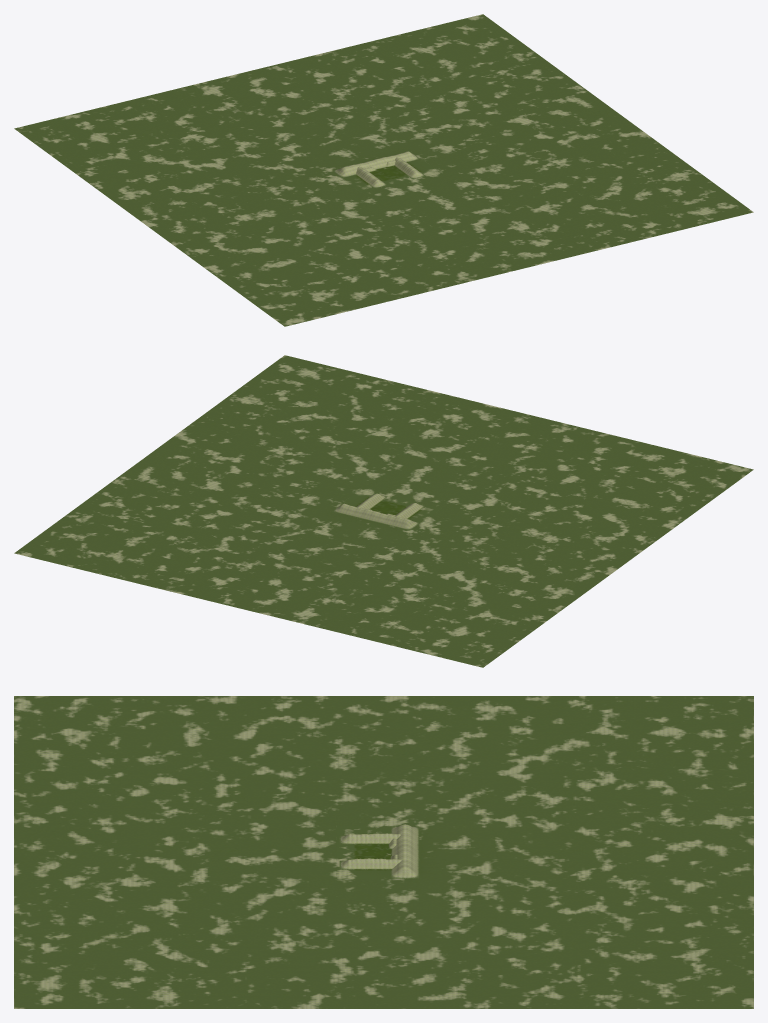
Rendered from env_outdoor_03.glb.
The picture shows the model from 3 angles, top to bottom: view 1: azimuth 30°, elevation 25°; view 2: azimuth 150°, elevation 25°; view 3: azimuth 270°, elevation 25°; orthographic projection. The views are drawn at different scales.
Visible parts, largest first — view 1: ground_mid, berms, ground_near; view 2: ground_mid, berms, ground_near; view 3: ground_mid, berms, ground_near.
Boxes of the visible parts, bbox=[...] form: ground_mid: bbox=[14, 14, 753, 326]; berms: bbox=[332, 151, 425, 188]; ground_near: bbox=[330, 151, 441, 192]; ground_mid: bbox=[14, 355, 753, 667]; berms: bbox=[332, 493, 425, 530]; ground_near: bbox=[330, 489, 441, 530]; ground_mid: bbox=[14, 696, 753, 1008]; berms: bbox=[340, 824, 419, 878]; ground_near: bbox=[336, 825, 420, 879].
Size of what is drawn, in the model's own units: 420 by 4.41 by 420.
Materials: 3 (3 with a texture image).
